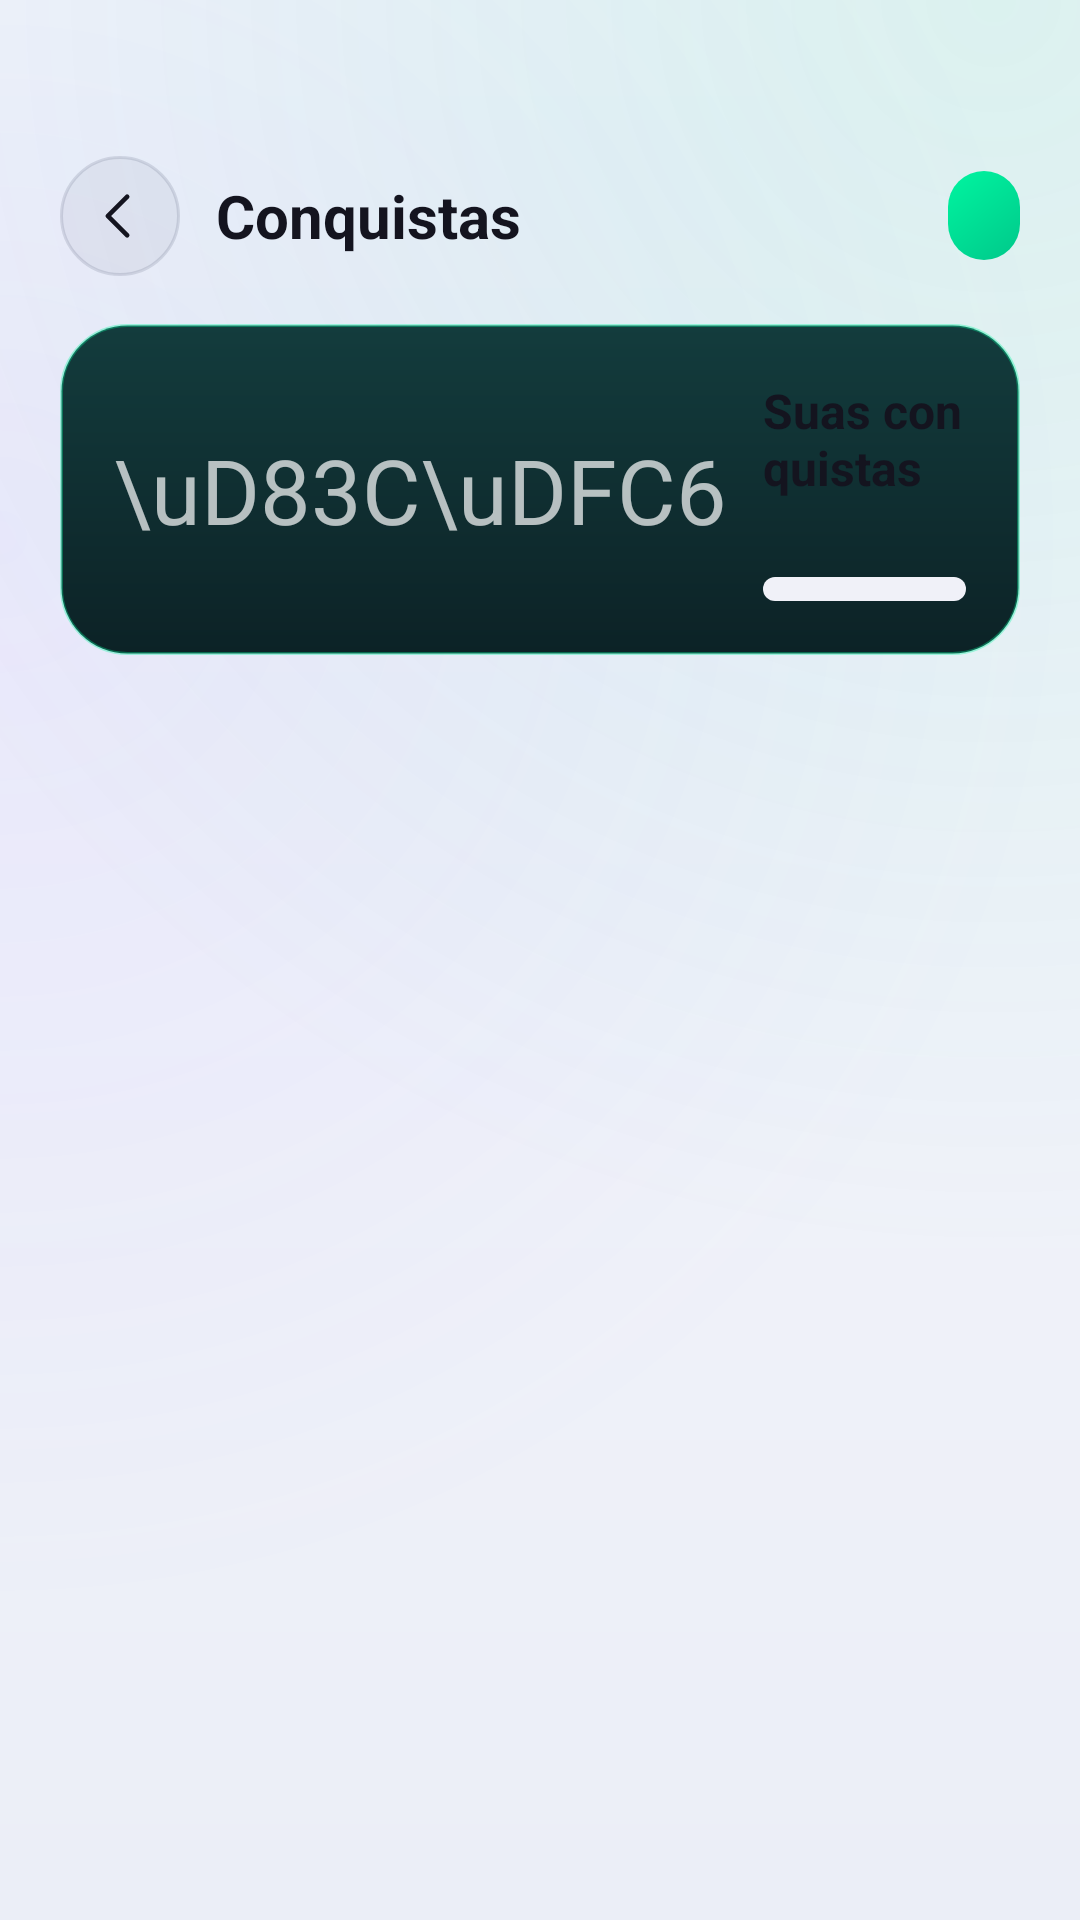

Where icons sit on this 1080px×1920px app screen, as Rect(x1, y1, x2, y2):
back: Rect(60, 156, 180, 276)
